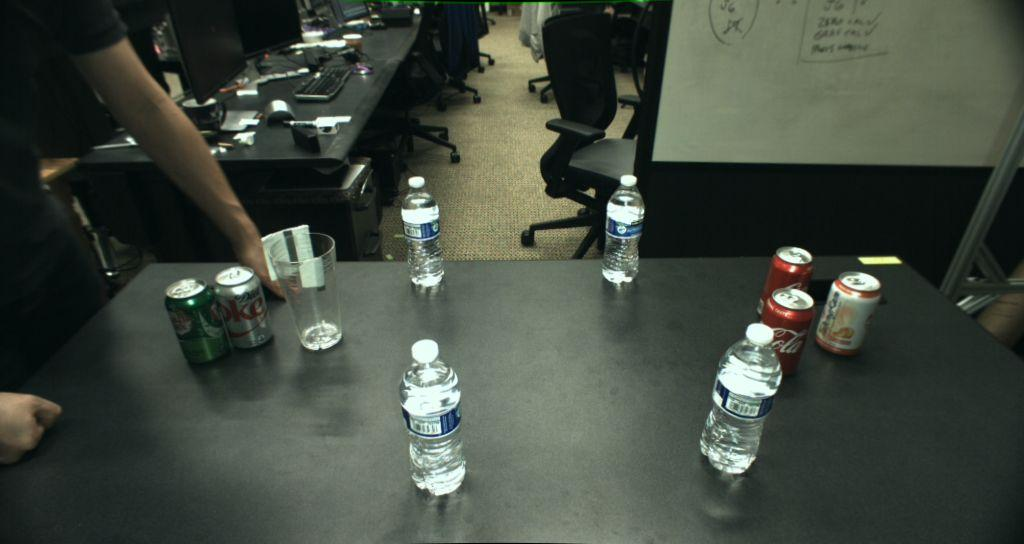can_diet_coke: (214, 265, 274, 352)
can_ginger_ale: (164, 278, 229, 365)
can_talking_rain_peach_nectarine: (814, 272, 880, 357)
water_bottle: (700, 323, 782, 474), (399, 339, 465, 495), (400, 176, 444, 287), (602, 174, 644, 284)
